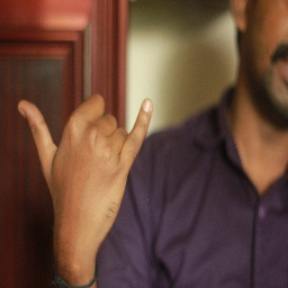J: (17, 84, 154, 220)
